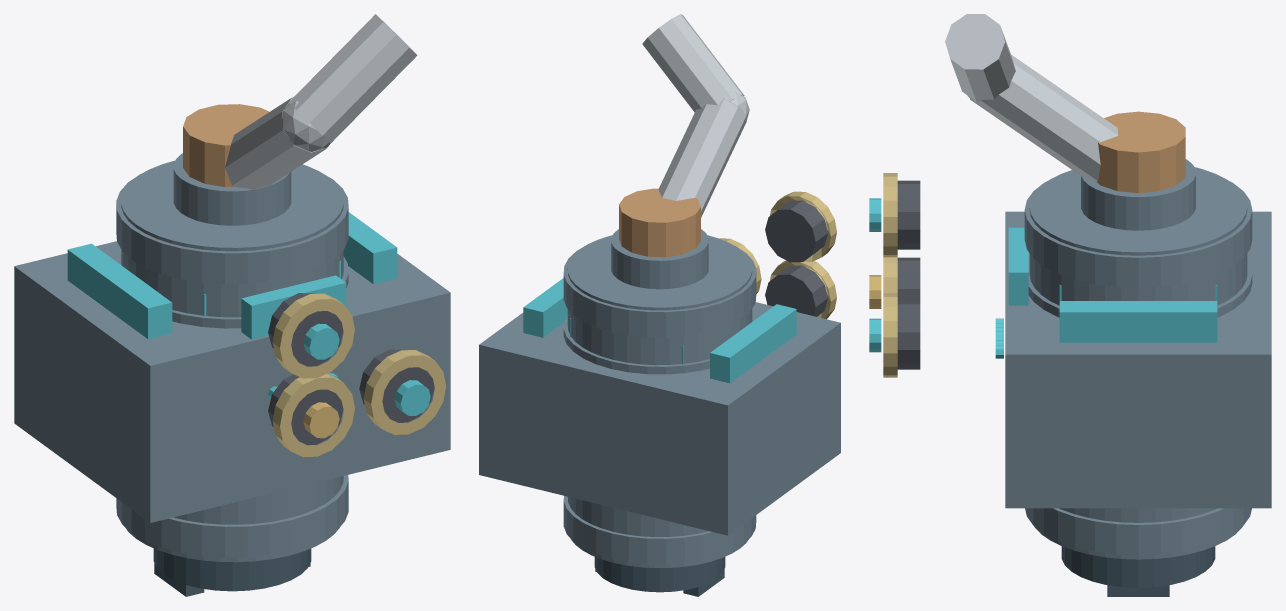
The model's file is 40_L82_DifferentialCurrentProbe.glb.
The picture shows the model from 3 angles, left to right: view 1: azimuth 30°, elevation 25°; view 2: azimuth 150°, elevation 25°; view 3: azimuth 270°, elevation 25°; orthographic projection. The views are drawn at different scales.
Parts seen in each view (by area): view 1: DifferentialCurrentProbe_Node_0026, DifferentialCurrentProbe_Node_0000, DifferentialCurrentProbe_Node_0008, DifferentialCurrentProbe_Node_0002, DifferentialCurrentProbe_Node_0024, DifferentialCurrentProbe_Node_0027, DifferentialCurrentProbe_Node_0011, DifferentialCurrentProbe_Node_0023, DifferentialCurrentProbe_Node_0012, DifferentialCurrentProbe_Node_0013, DifferentialCurrentProbe_Node_0039, DifferentialCurrentProbe_Node_0036 (+11 smaller); view 2: DifferentialCurrentProbe_Node_0026, DifferentialCurrentProbe_Node_0000, DifferentialCurrentProbe_Node_0008, DifferentialCurrentProbe_Node_0023, DifferentialCurrentProbe_Node_0002, DifferentialCurrentProbe_Node_0024, DifferentialCurrentProbe_Node_0013, DifferentialCurrentProbe_Node_0027, DifferentialCurrentProbe_Node_0011, DifferentialCurrentProbe_Node_0038, DifferentialCurrentProbe_Node_0012, DifferentialCurrentProbe_Node_0032 (+4 smaller); view 3: DifferentialCurrentProbe_Node_0026, DifferentialCurrentProbe_Node_0000, DifferentialCurrentProbe_Node_0008, DifferentialCurrentProbe_Node_0023, DifferentialCurrentProbe_Node_0002, DifferentialCurrentProbe_Node_0031, DifferentialCurrentProbe_Node_0013, DifferentialCurrentProbe_Node_0011, DifferentialCurrentProbe_Node_0024, DifferentialCurrentProbe_Node_0012, DifferentialCurrentProbe_Node_0038, DifferentialCurrentProbe_Node_0035 (+7 smaller).
Boxes of the visible parts, x1,y1,x2,y2 form: DifferentialCurrentProbe_Node_0026: (14, 241, 450, 522); DifferentialCurrentProbe_Node_0000: (121, 160, 343, 562); DifferentialCurrentProbe_Node_0008: (116, 174, 348, 284); DifferentialCurrentProbe_Node_0002: (116, 475, 348, 557); DifferentialCurrentProbe_Node_0024: (289, 14, 417, 143); DifferentialCurrentProbe_Node_0027: (67, 243, 172, 339); DifferentialCurrentProbe_Node_0011: (173, 153, 291, 225); DifferentialCurrentProbe_Node_0023: (225, 97, 329, 189); DifferentialCurrentProbe_Node_0012: (153, 548, 311, 591); DifferentialCurrentProbe_Node_0013: (183, 104, 269, 187); DifferentialCurrentProbe_Node_0039: (272, 293, 354, 378); DifferentialCurrentProbe_Node_0036: (363, 350, 445, 434); DifferentialCurrentProbe_Node_0026: (479, 302, 840, 535); DifferentialCurrentProbe_Node_0000: (567, 235, 752, 568); DifferentialCurrentProbe_Node_0008: (563, 246, 756, 337); DifferentialCurrentProbe_Node_0023: (658, 99, 746, 217); DifferentialCurrentProbe_Node_0002: (563, 496, 756, 564); DifferentialCurrentProbe_Node_0024: (642, 14, 744, 112); DifferentialCurrentProbe_Node_0013: (619, 188, 700, 257); DifferentialCurrentProbe_Node_0027: (710, 304, 796, 383); DifferentialCurrentProbe_Node_0011: (611, 229, 708, 289); DifferentialCurrentProbe_Node_0038: (765, 200, 827, 262); DifferentialCurrentProbe_Node_0012: (594, 557, 725, 592); DifferentialCurrentProbe_Node_0032: (765, 265, 827, 316); DifferentialCurrentProbe_Node_0026: (1005, 211, 1271, 508); DifferentialCurrentProbe_Node_0000: (1029, 167, 1247, 559); DifferentialCurrentProbe_Node_0008: (1024, 181, 1252, 287); DifferentialCurrentProbe_Node_0023: (970, 54, 1118, 181); DifferentialCurrentProbe_Node_0002: (1025, 508, 1251, 555); DifferentialCurrentProbe_Node_0031: (1059, 301, 1217, 342); DifferentialCurrentProbe_Node_0013: (1096, 111, 1185, 193); DifferentialCurrentProbe_Node_0011: (1081, 159, 1195, 230); DifferentialCurrentProbe_Node_0024: (945, 14, 1015, 102); DifferentialCurrentProbe_Node_0012: (1061, 546, 1215, 587); DifferentialCurrentProbe_Node_0038: (897, 180, 920, 249); DifferentialCurrentProbe_Node_0035: (897, 301, 920, 369).
Bounding box in the file's own units: 0.56 × 1.06 × 0.6647.
